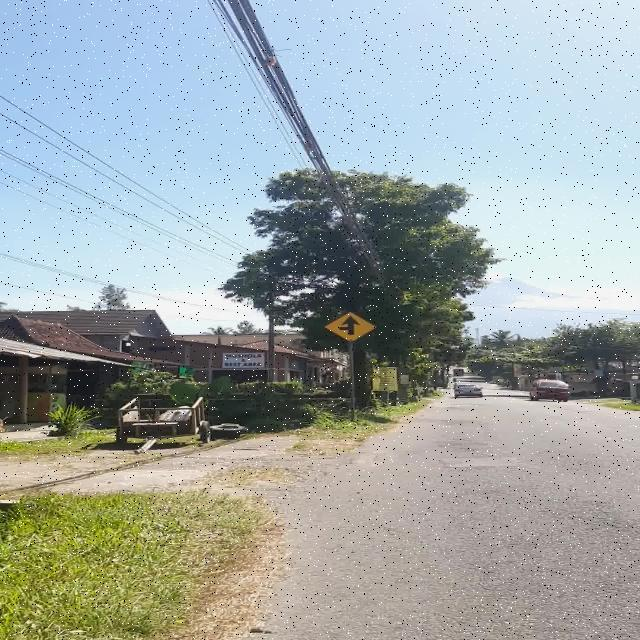Persimpangan 3 Prioritas Kiri: (324, 310, 377, 342)
